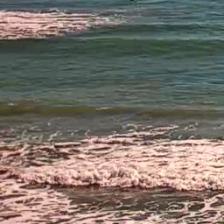surfer: (128, 0, 138, 3)
